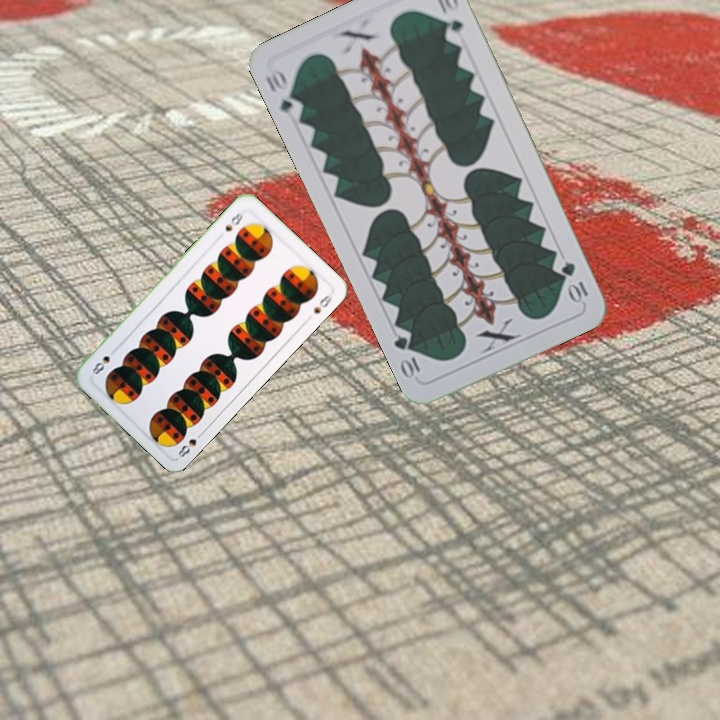G10: (261, 64, 306, 122), (557, 257, 591, 306)
S8: (174, 427, 207, 460), (221, 206, 246, 234)
